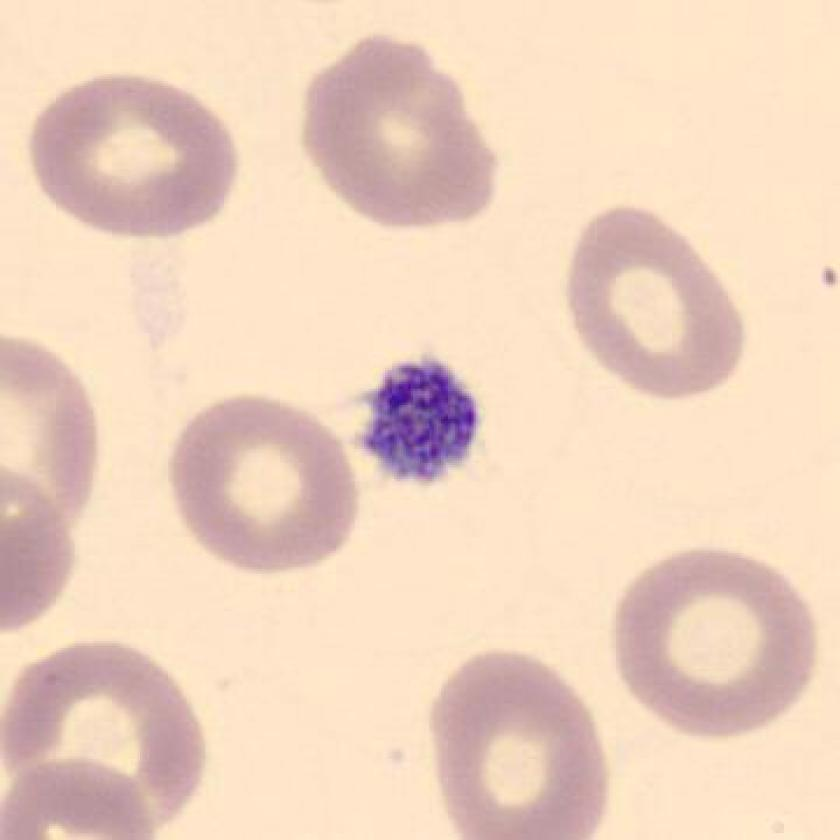platelets: (349, 344, 489, 496)
